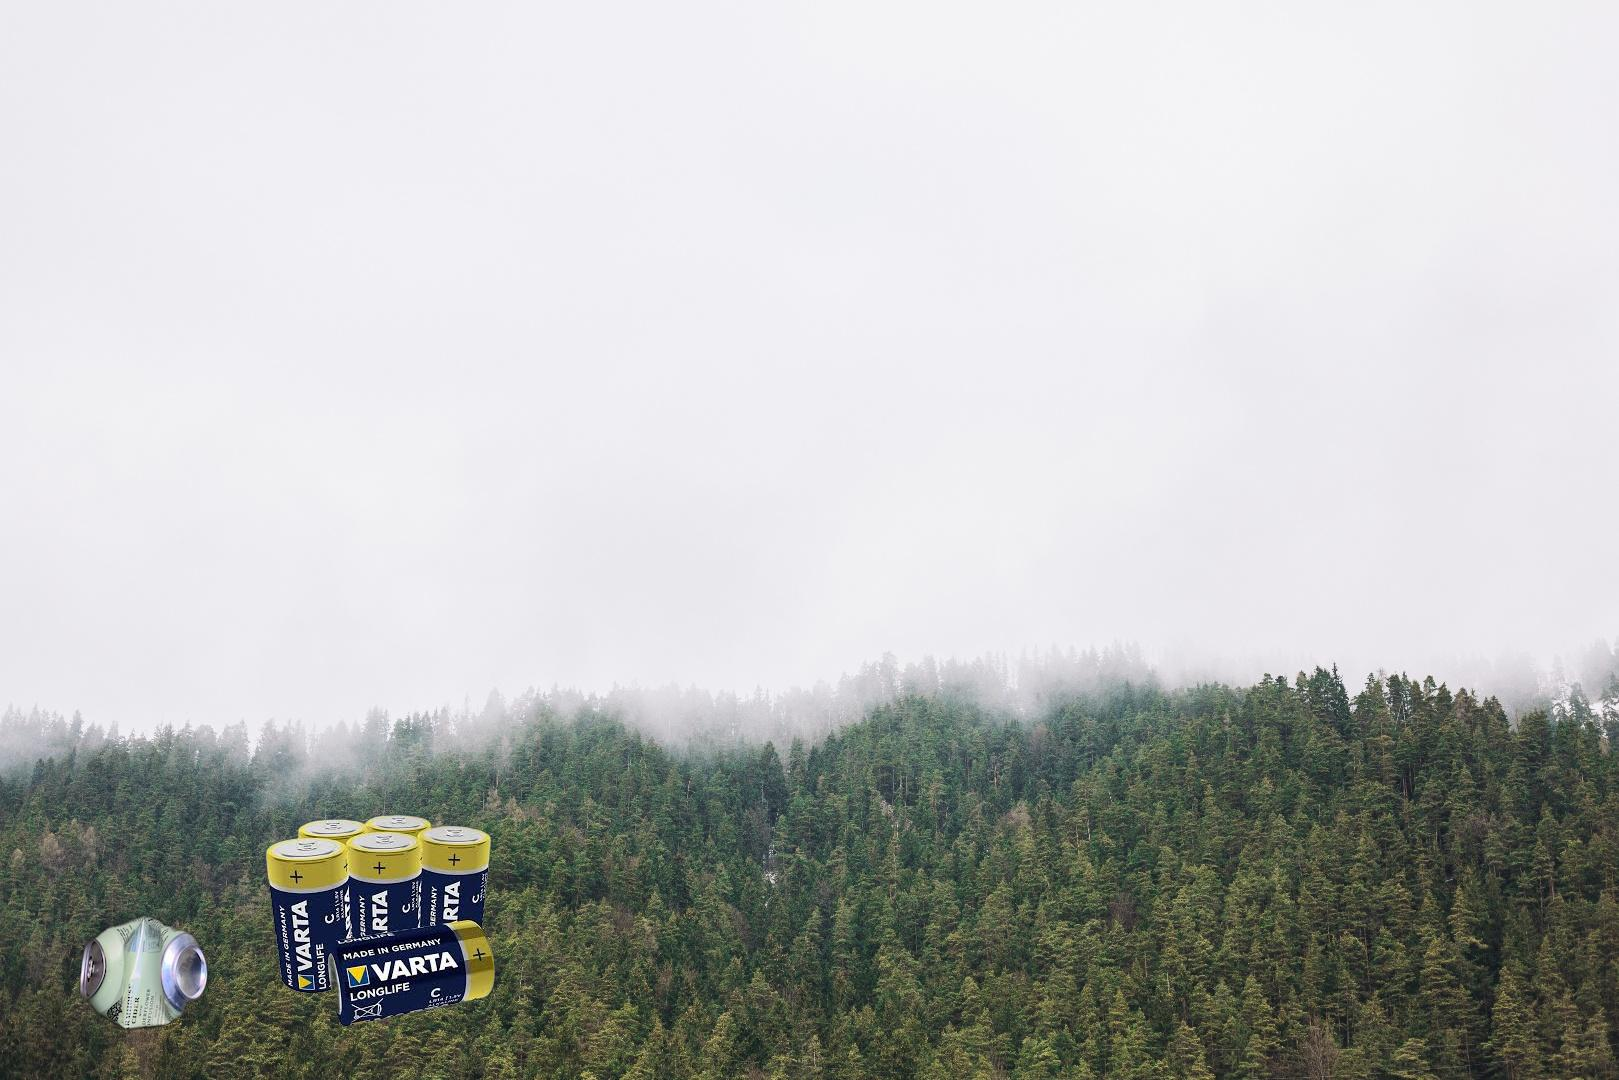battery: (264, 812, 497, 1029)
metal-cans: (75, 580, 485, 1035)
